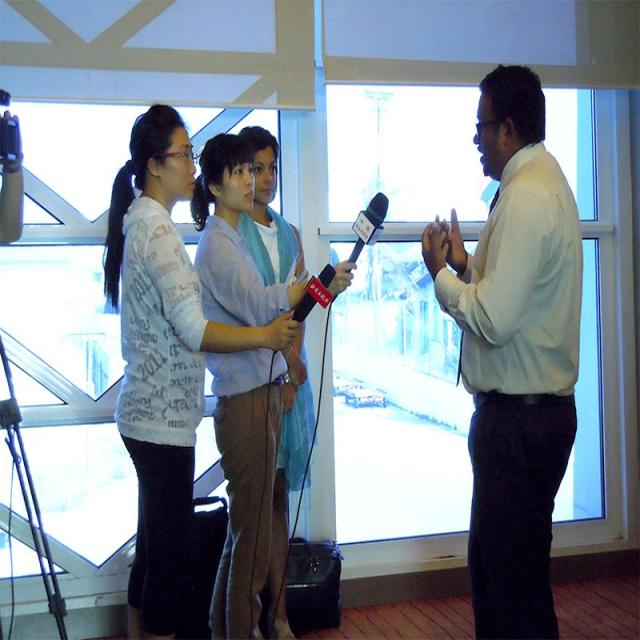body: (100, 98, 306, 639), (416, 56, 586, 639), (189, 129, 360, 639), (235, 123, 318, 640), (0, 83, 30, 268)
